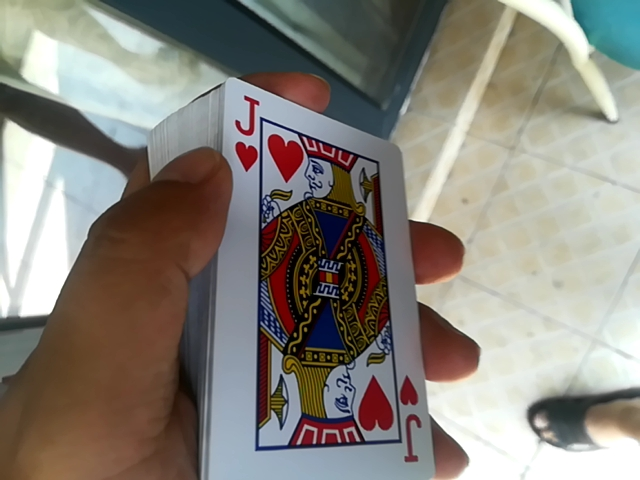hx j: (190, 79, 438, 465)
